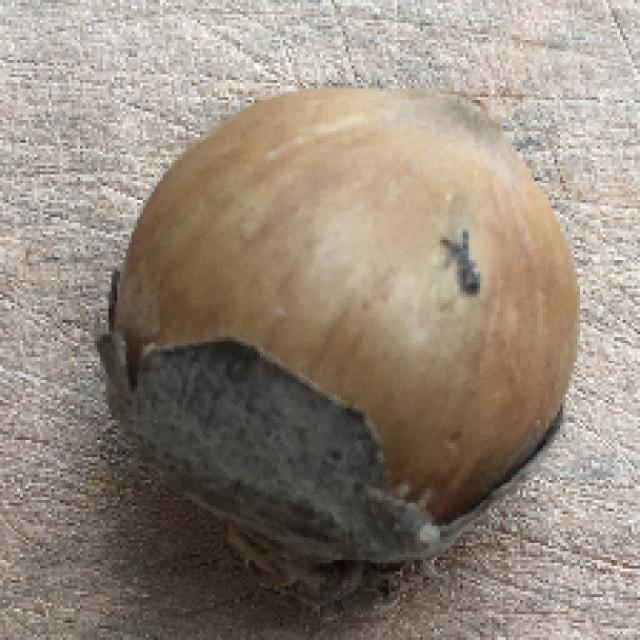DamagedHazelnut: (103, 83, 578, 559)
